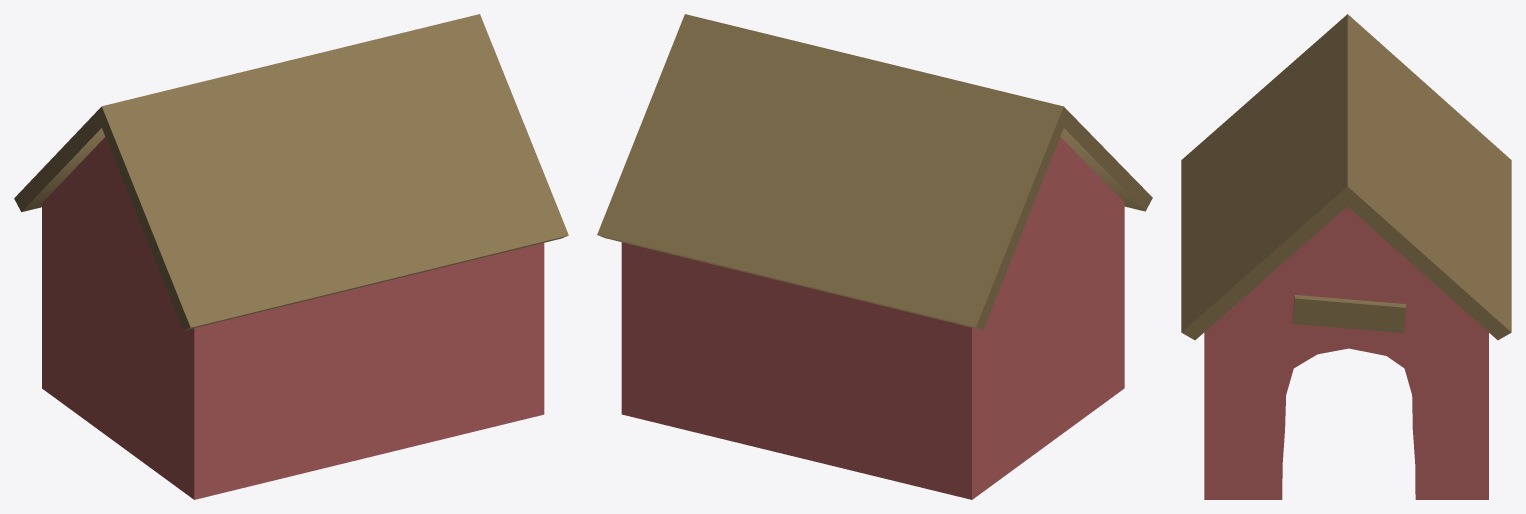
File: kennel.fbx
The picture shows the model from 3 angles, left to right: view 1: azimuth 30°, elevation 25°; view 2: azimuth 150°, elevation 25°; view 3: azimuth 270°, elevation 25°; orthographic projection. The views are drawn at different scales.
Parts seen in each view (by area): view 1: kennelRoof1, kennel; view 2: kennelRoof1, kennel; view 3: kennelRoof1, kennel, kennelSIgn.
Boxes of the visible parts, x1,y1,x2,y2 form: kennelRoof1: (14,14,568,330); kennel: (42,137,544,499); kennelRoof1: (597,14,1152,330); kennel: (621,137,1124,499); kennelRoof1: (1181,14,1511,340); kennel: (1204,206,1488,499); kennelSIgn: (1292,295,1406,332).
Size of the model in its own units: 0.8805 by 0.7595 by 0.7122.
